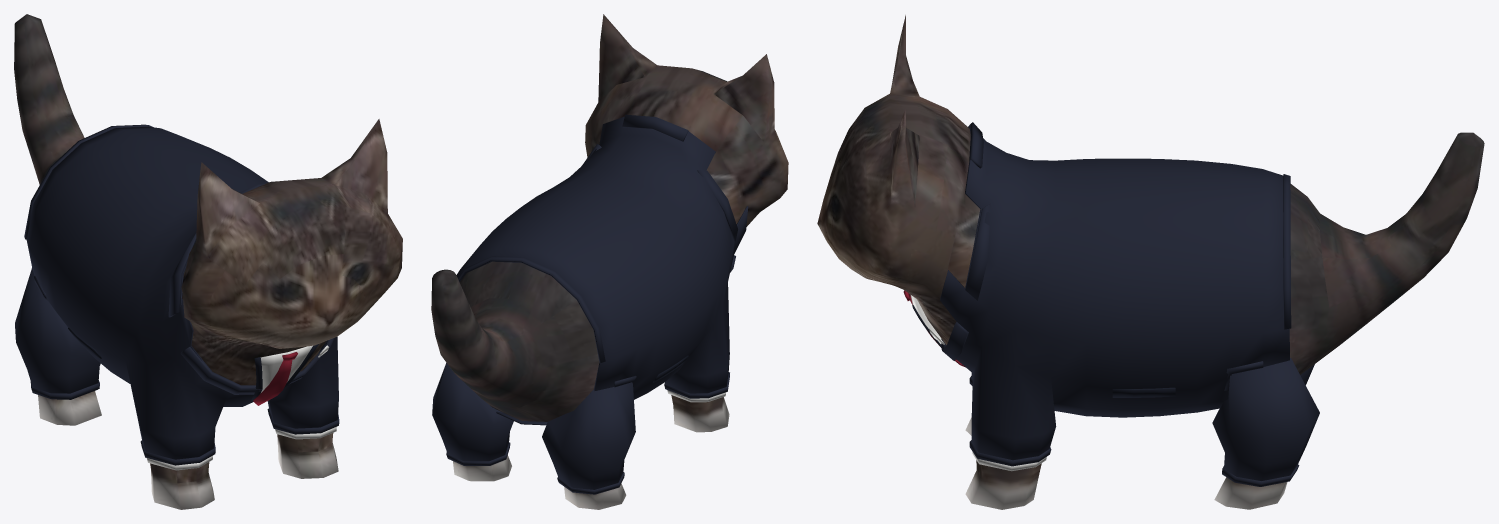
File: cat_suit_lite.glb
The picture shows the model from 3 angles, left to right: view 1: azimuth 30°, elevation 25°; view 2: azimuth 150°, elevation 25°; view 3: azimuth 270°, elevation 25°; orthographic projection. The views are drawn at different scales.
Parts seen in each view (by area): view 1: Suit, Cat; view 2: Suit, Cat; view 3: Suit, Cat.
Part boxes in pixels (x1,y1,x2,y2): Suit: (15,124,339,470); Cat: (14,14,402,509); Suit: (432,114,748,494); Cat: (431,14,788,509); Suit: (903,122,1319,486); Cat: (817,15,1484,509).
Size of the model in its own units: 0.2669 by 0.4294 by 0.6468.
Materials: 5 (1 with a texture image).
